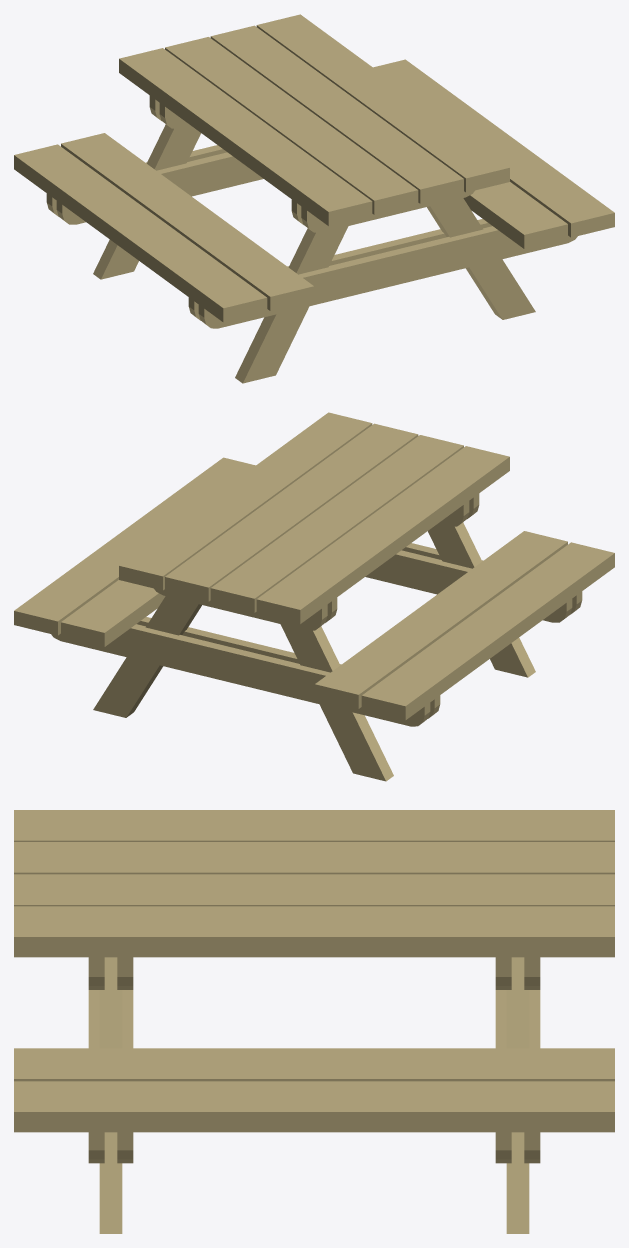
File: masalıbank.FBX
3 views of the same model, one above another, from view 1: azimuth 30°, elevation 25°; view 2: azimuth 150°, elevation 25°; view 3: azimuth 270°, elevation 25° (orthographic). The views are drawn at different scales.
Visible parts, largest first — view 1: 3dSolid0, 3dSolid6, 3dSolid, 3dSolid5, 3dSolid3, 3dSolid4, 3dSolid1, 3dSolid17, 3dSolid18, 3dSolid2, 3dSolid14, 3dSolid11 (+4 smaller); view 2: 3dSolid6, 3dSolid0, 3dSolid, 3dSolid5, 3dSolid3, 3dSolid4, 3dSolid1, 3dSolid9, 3dSolid12, 3dSolid2, 3dSolid8, 3dSolid15 (+4 smaller); view 3: 3dSolid1, 3dSolid3, 3dSolid2, 3dSolid4, 3dSolid5, 3dSolid6, 3dSolid8, 3dSolid14, 3dSolid9, 3dSolid11, 3dSolid15, 3dSolid17.
Part boxes in pixels (<box>): 3dSolid0: <box>14,144,267,322</box>; 3dSolid6: <box>119,48,372,225</box>; 3dSolid: <box>61,133,314,310</box>; 3dSolid5: <box>165,37,418,214</box>; 3dSolid3: <box>256,14,509,192</box>; 3dSolid4: <box>210,25,463,203</box>; 3dSolid1: <box>373,59,614,237</box>; 3dSolid17: <box>198,226,577,328</box>; 3dSolid18: <box>235,226,348,383</box>; 3dSolid2: <box>463,182,567,248</box>; 3dSolid14: <box>427,198,535,319</box>; 3dSolid11: <box>56,152,263,224</box>; 3dSolid6: <box>256,446,509,624</box>; 3dSolid0: <box>361,542,614,720</box>; 3dSolid: <box>315,531,567,708</box>; 3dSolid5: <box>210,435,463,612</box>; 3dSolid3: <box>119,412,372,590</box>; 3dSolid4: <box>165,423,418,601</box>; 3dSolid1: <box>14,457,255,635</box>; 3dSolid9: <box>51,624,430,726</box>; 3dSolid12: <box>280,624,393,781</box>; 3dSolid2: <box>61,580,165,646</box>; 3dSolid8: <box>93,596,201,717</box>; 3dSolid15: <box>365,550,572,622</box>; 3dSolid1: <box>14,1081,614,1132</box>; 3dSolid3: <box>14,906,614,957</box>; 3dSolid2: <box>14,1048,614,1081</box>; 3dSolid4: <box>14,874,614,906</box>; 3dSolid5: <box>14,842,614,874</box>; 3dSolid6: <box>14,810,614,841</box>; 3dSolid8: <box>506,957,529,1233</box>; 3dSolid14: <box>99,957,122,1233</box>; 3dSolid9: <box>524,990,540,1163</box>; 3dSolid11: <box>495,990,511,1163</box>; 3dSolid15: <box>117,990,133,1163</box>; 3dSolid17: <box>88,990,104,1163</box>.
Bounding box in the file's own units: 1257 × 552 × 1165.
